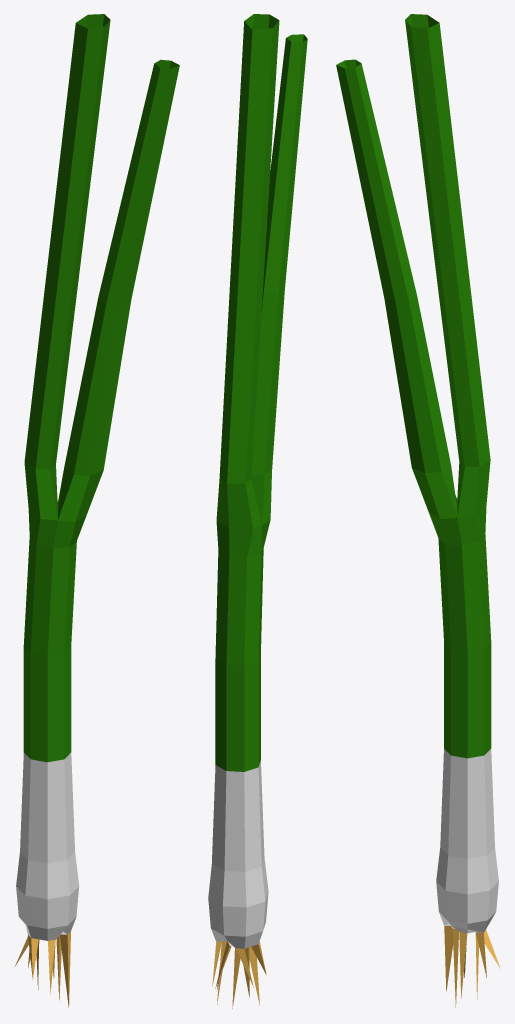
The model's file is scallion01.obj.
The picture shows the model from 3 angles, left to right: view 1: azimuth 90°, elevation 25°; view 2: azimuth 150°, elevation 25°; view 3: azimuth 270°, elevation 25°; orthographic projection.
Parts seen in each view (by area): view 1: Cylinder_Cylinder.002; view 2: Cylinder_Cylinder.002; view 3: Cylinder_Cylinder.002.
Boxes of the visible parts, box(x1,y1,x2,y2) form: Cylinder_Cylinder.002: box(15, 14, 179, 1007); Cylinder_Cylinder.002: box(208, 14, 307, 1008); Cylinder_Cylinder.002: box(336, 14, 500, 1007).
Bounding box in the file's own units: 0.0209 × 0.3622 × 0.055.
1 material, 1 textured.
